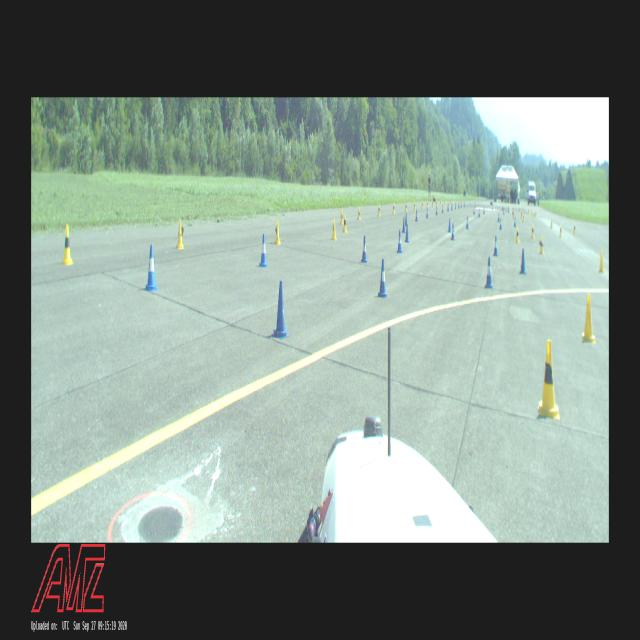blue_cone: (272, 280, 290, 338), (144, 244, 158, 292), (378, 259, 388, 298), (258, 234, 268, 266), (484, 256, 493, 288), (361, 236, 368, 263), (520, 248, 526, 274), (397, 230, 402, 253), (493, 235, 498, 256), (450, 223, 456, 240), (405, 224, 409, 242), (402, 216, 406, 232), (448, 218, 452, 232), (465, 216, 469, 229), (415, 210, 418, 222), (499, 218, 502, 230), (405, 212, 407, 226), (514, 216, 516, 226), (498, 212, 500, 222), (426, 208, 428, 218), (436, 206, 438, 215), (478, 209, 480, 217), (447, 204, 449, 212), (454, 202, 456, 210), (483, 207, 485, 214), (442, 205, 444, 212), (473, 207, 475, 214), (451, 204, 453, 211)
yellow_cone: (538, 340, 560, 420), (582, 294, 596, 344), (62, 224, 74, 264), (177, 220, 184, 249), (598, 250, 606, 272), (274, 220, 280, 244), (331, 218, 337, 240), (342, 214, 348, 233), (539, 236, 544, 254), (339, 208, 344, 224), (516, 227, 520, 243), (530, 224, 534, 238), (357, 206, 361, 220), (377, 204, 381, 217), (572, 223, 576, 235), (392, 203, 396, 214), (550, 218, 554, 228), (559, 225, 562, 237), (405, 202, 407, 212), (535, 210, 537, 218), (421, 201, 423, 209), (414, 202, 416, 210), (522, 214, 524, 222), (533, 210, 535, 218), (520, 210, 522, 218), (512, 212, 514, 220), (432, 200, 434, 208), (426, 200, 428, 207)
